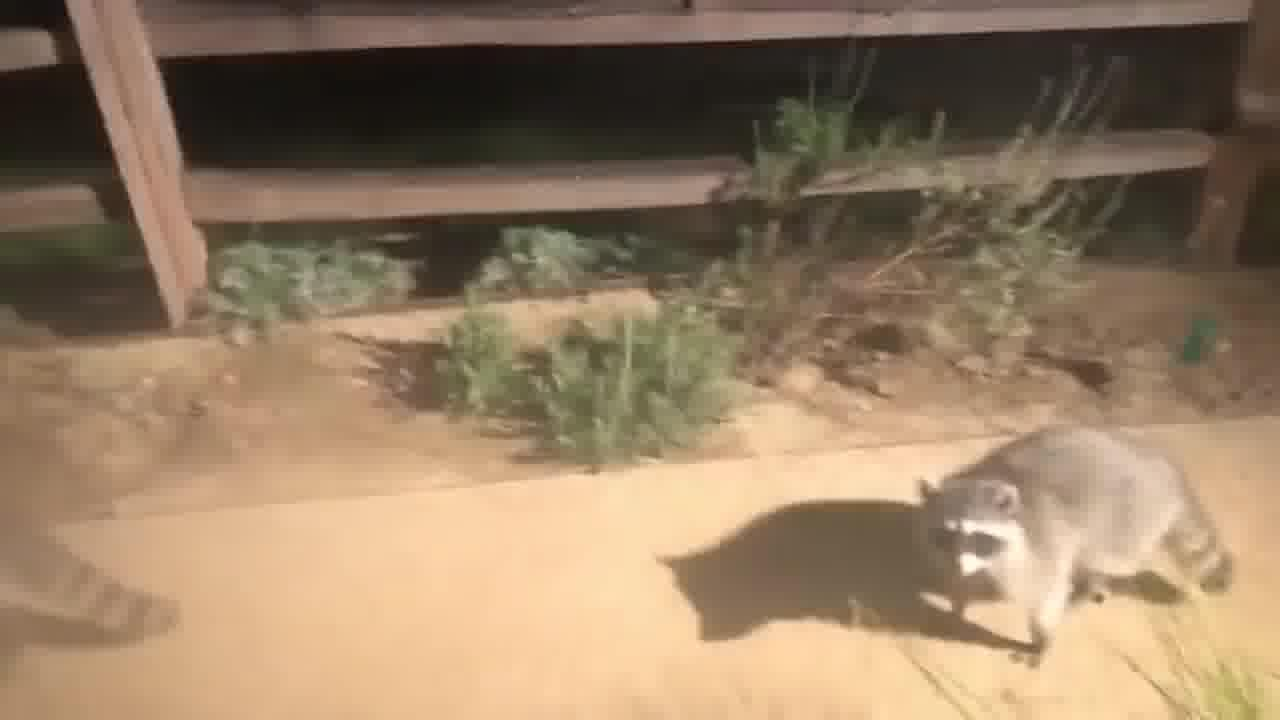raccoon: (899, 425, 1240, 674), (0, 508, 216, 651)
